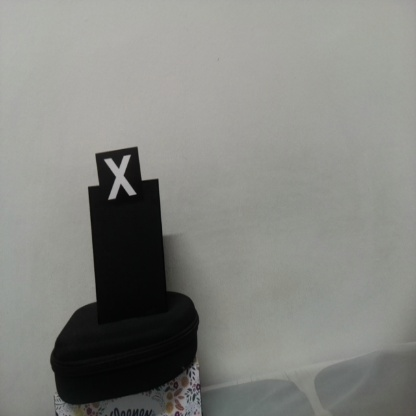id_13: (95, 151, 142, 211)
